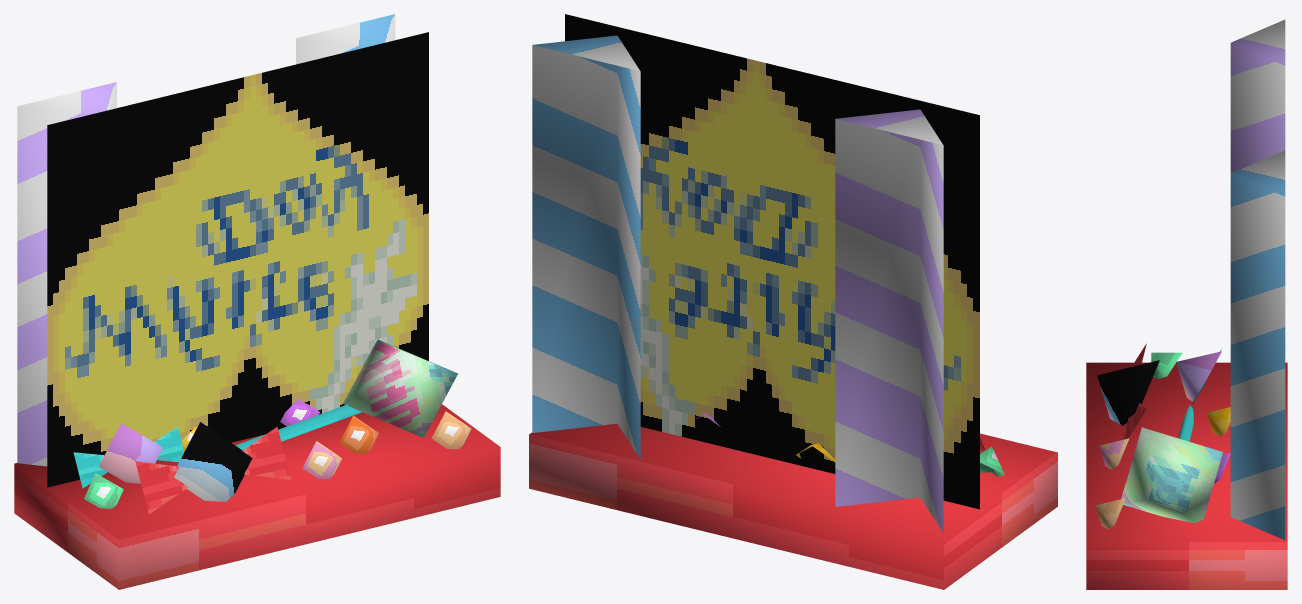
3 renders of one model, left to right at view 1: azimuth 30°, elevation 25°; view 2: azimuth 150°, elevation 25°; view 3: azimuth 270°, elevation 25°, orthographic. The views are drawn at different scales.
Parts seen in each view (by area): view 1: 3769kg_sh0_16; view 2: 3769kg_sh0_16; view 3: 3769kg_sh0_16.
Boxes of the visible parts, bbox=[...] form: 3769kg_sh0_16: bbox=[14, 14, 500, 589]; 3769kg_sh0_16: bbox=[529, 14, 1057, 589]; 3769kg_sh0_16: bbox=[1086, 19, 1287, 589].
Size of the model in its own units: 1.62 by 1.67 by 0.7668.
Materials: 4 (4 with a texture image).
